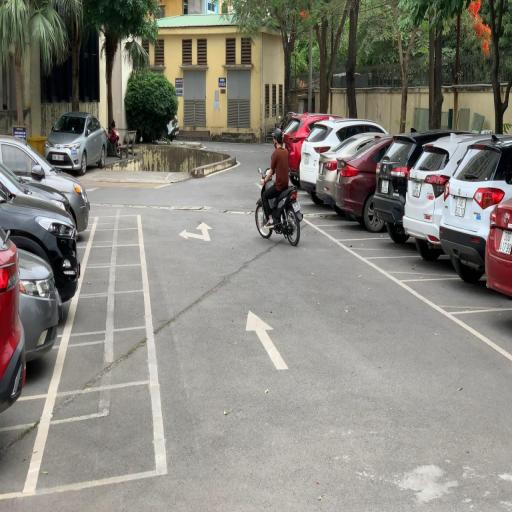bike: (254, 122, 304, 246)
numberplate: (292, 201, 302, 212)
with helmet: (272, 128, 283, 142)
